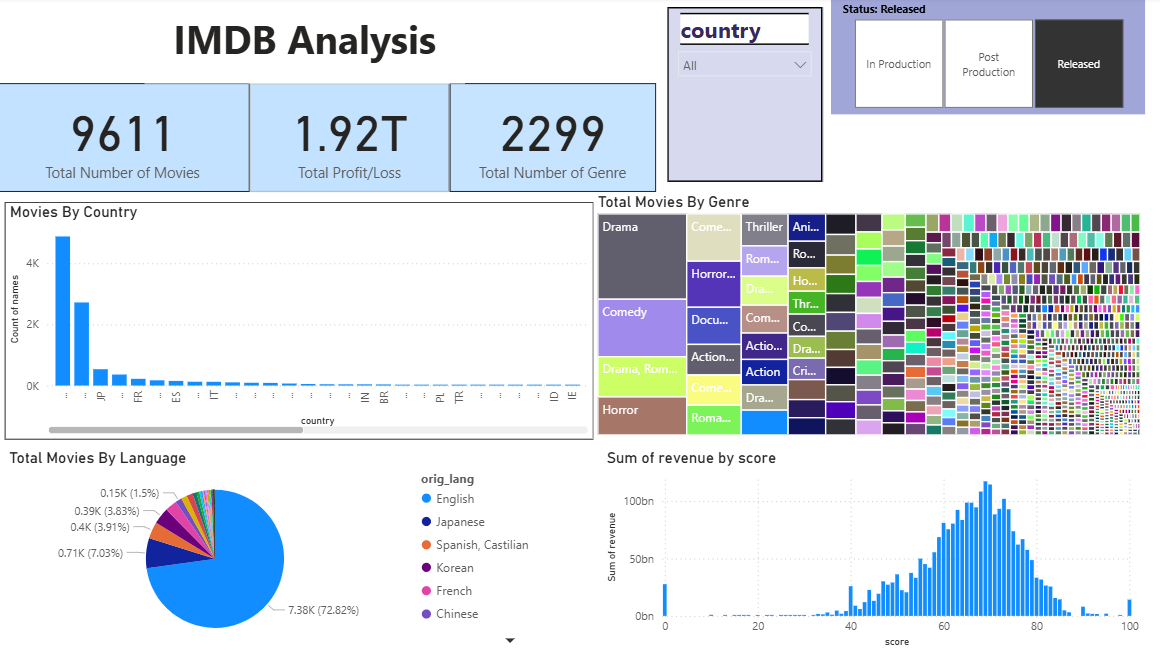

The dashboard page shown, as its layout file describes it:
{"tool":"powerbi","page":{"name":"Page 1","canvas":[1280,720],"ordinal":0},"visuals":[{"type":"card","fields":{"Values":["Count(IMDB.names)"]},"box":[0,94.7,278.6,119.4],"z":0},{"type":"card","fields":{"Values":["Sum(IMDB.Sum of Profit/Loss)"]},"box":[278.6,94.7,219.6,119.4],"z":1},{"type":"card","fields":{"Values":["Count(IMDB.genre)"]},"box":[498.1,94.7,226.4,119.4],"z":2},{"type":"columnChart","title":"Movies By Country","fields":{"Category":["IMDB.country"],"Y":["CountNonNull(IMDB.names)"]},"box":[9.6,225,646.3,260.7],"z":3},{"type":"treemap","title":"Total Movies By Genre","fields":{"Group":["IMDB.genre"],"Values":["Count(IMDB.names)"]},"box":[655.9,214.1,605.1,271.7],"z":4},{"type":"pieChart","title":"Total Movies By Language","fields":{"Category":["IMDB.orig_lang"],"Y":["CountNonNull(IMDB.names)"]},"box":[10,496,656,224],"z":5},{"type":"slicer","fields":{"Values":["IMDB.country"]},"box":[736.9,11,170.2,192.1],"z":7},{"type":"slicer","fields":{"Values":["IMDB.status"]},"box":[916.6,0,344.4,129],"z":8},{"type":"textbox","box":[163.3,11,351.3,83.7],"z":9},{"type":"clusteredColumnChart","fields":{"Y":["Sum(IMDB.revenue)"],"Category":["IMDB.score"]},"box":[666,496,595,224],"z":10}]}

Visuals, with their boxes in screenshot pixels (x1, y1, x2, y2), scaled from the page's 1280x720 canvas onto the 1160x653 screenshot:
card - Count(IMDB.names): (0,86,252,194)
card - Sum(IMDB.Sum of Profit/Loss): (252,86,451,194)
card - Count(IMDB.genre): (451,86,657,194)
"Movies By Country" columnChart: (9,204,594,441)
"Total Movies By Genre" treemap: (594,194,1143,441)
"Total Movies By Language" pieChart: (9,450,604,652)
slicer - IMDB.country: (668,10,822,184)
slicer - IMDB.status: (831,0,1143,117)
textbox: (148,10,466,86)
clusteredColumnChart - Sum(IMDB.revenue) x IMDB.score: (604,450,1143,652)
